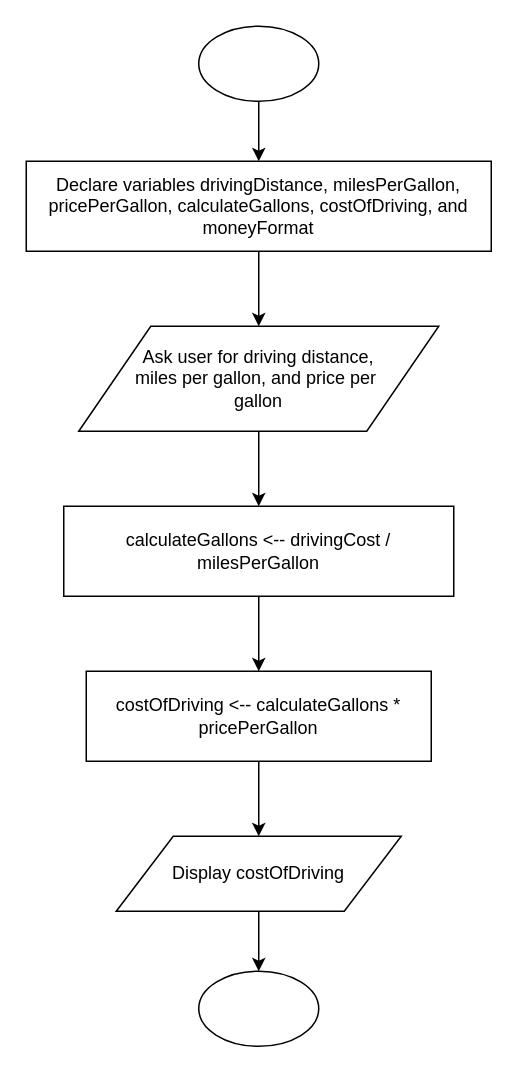
This 518x1073 diagram has some shape labels left out. Here are the shapes that lost their labels. From the top down, the centre of each, then its label:
the point at 258,63: Start
the point at 258,1008: Stop
